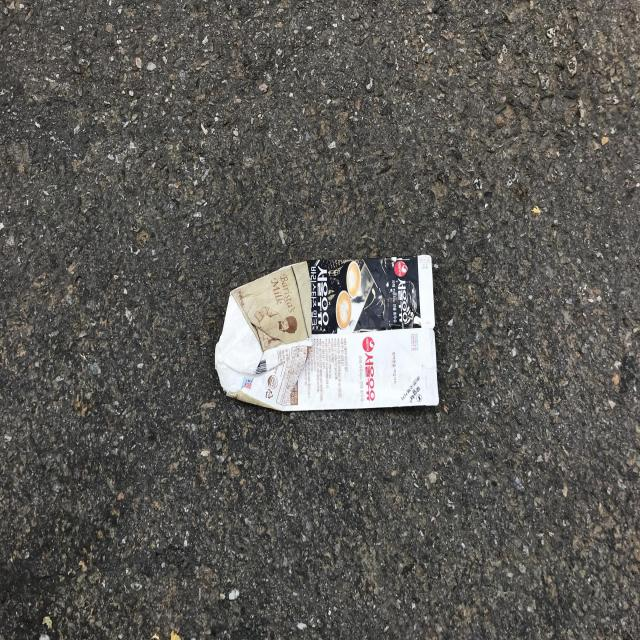paperpack: (215, 255, 439, 412)
